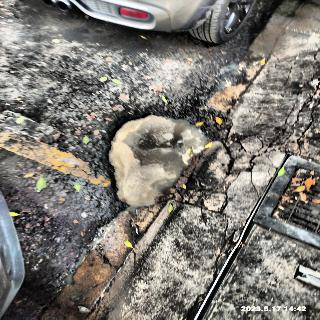pothole: (104, 107, 210, 214)
